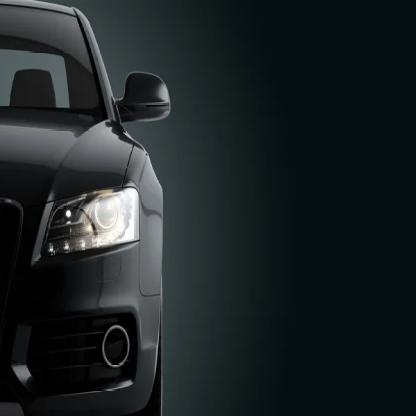car: (1, 1, 174, 416)
